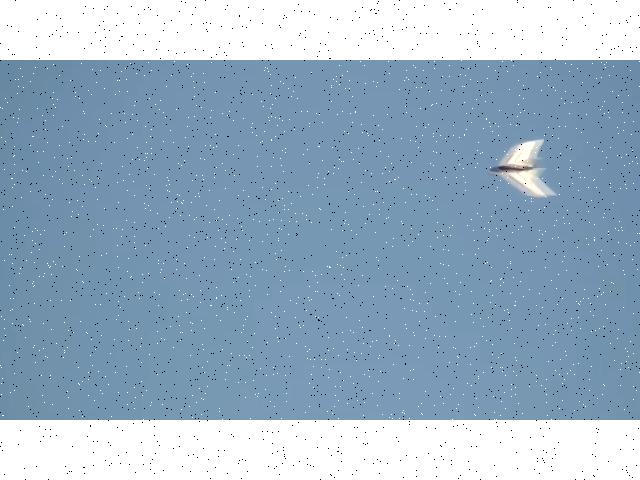Anti-Drone: (489, 141, 557, 197)
